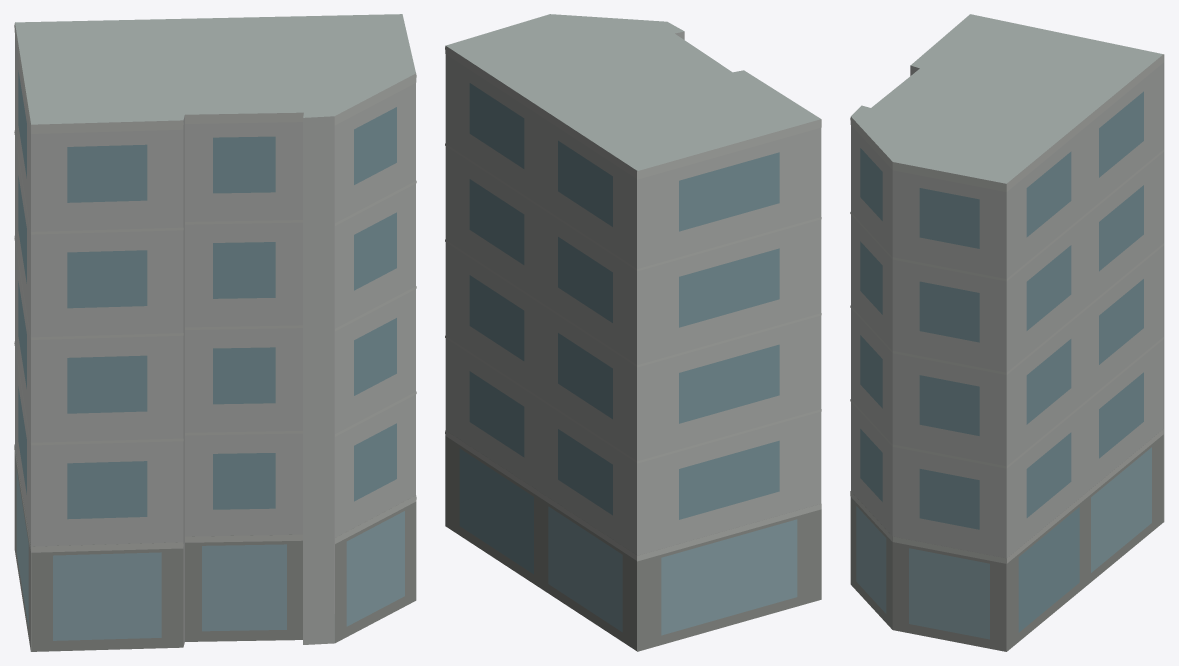
The model's file is survey-upis-32987062.glb.
The picture shows the model from 3 angles, left to right: view 1: azimuth 30°, elevation 25°; view 2: azimuth 150°, elevation 25°; view 3: azimuth 270°, elevation 25°; orthographic projection. The views are drawn at different scales.
Parts seen in each view (by area): view 1: survey-upis-32987062.tmp; view 2: survey-upis-32987062.tmp; view 3: survey-upis-32987062.tmp.
Boxes of the visible parts, x1,y1,x2,y2 form: survey-upis-32987062.tmp: [14, 14, 416, 651]; survey-upis-32987062.tmp: [445, 14, 821, 651]; survey-upis-32987062.tmp: [850, 14, 1164, 651].
Bounding box in the file's own units: 10.68 × 13.7 × 8.34.
